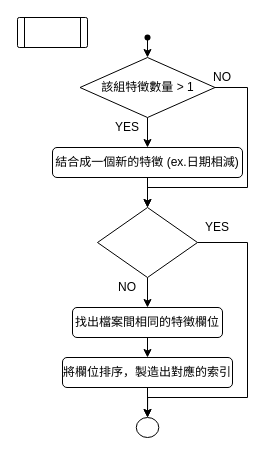
The diagram is 273 pixels wide and 455 high, and some of its shapes have lost their labels. Here are the shapes that lost their labels. From the top down, the centre of each, then its label:
At (52,32): "資料整合".
At (147,242): "該筆特徵在report.csv?".
